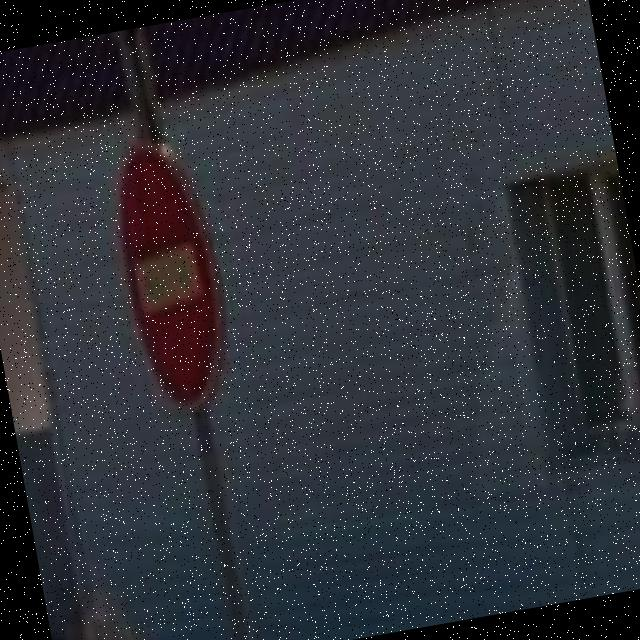Zakaz wjazdu: (100, 134, 238, 420)
